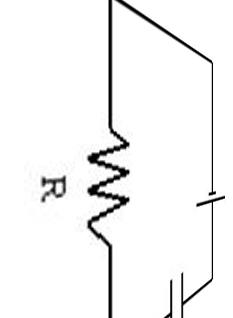resistor: (79, 116, 146, 248)
